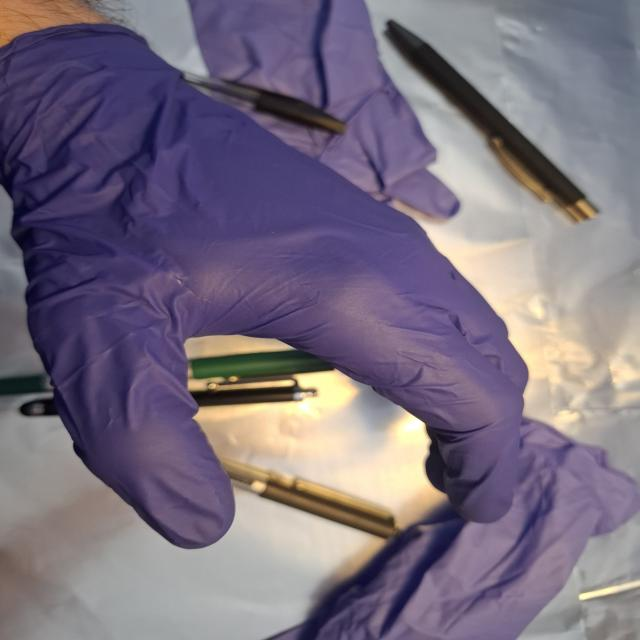glove_on: (0, 20, 534, 553)
